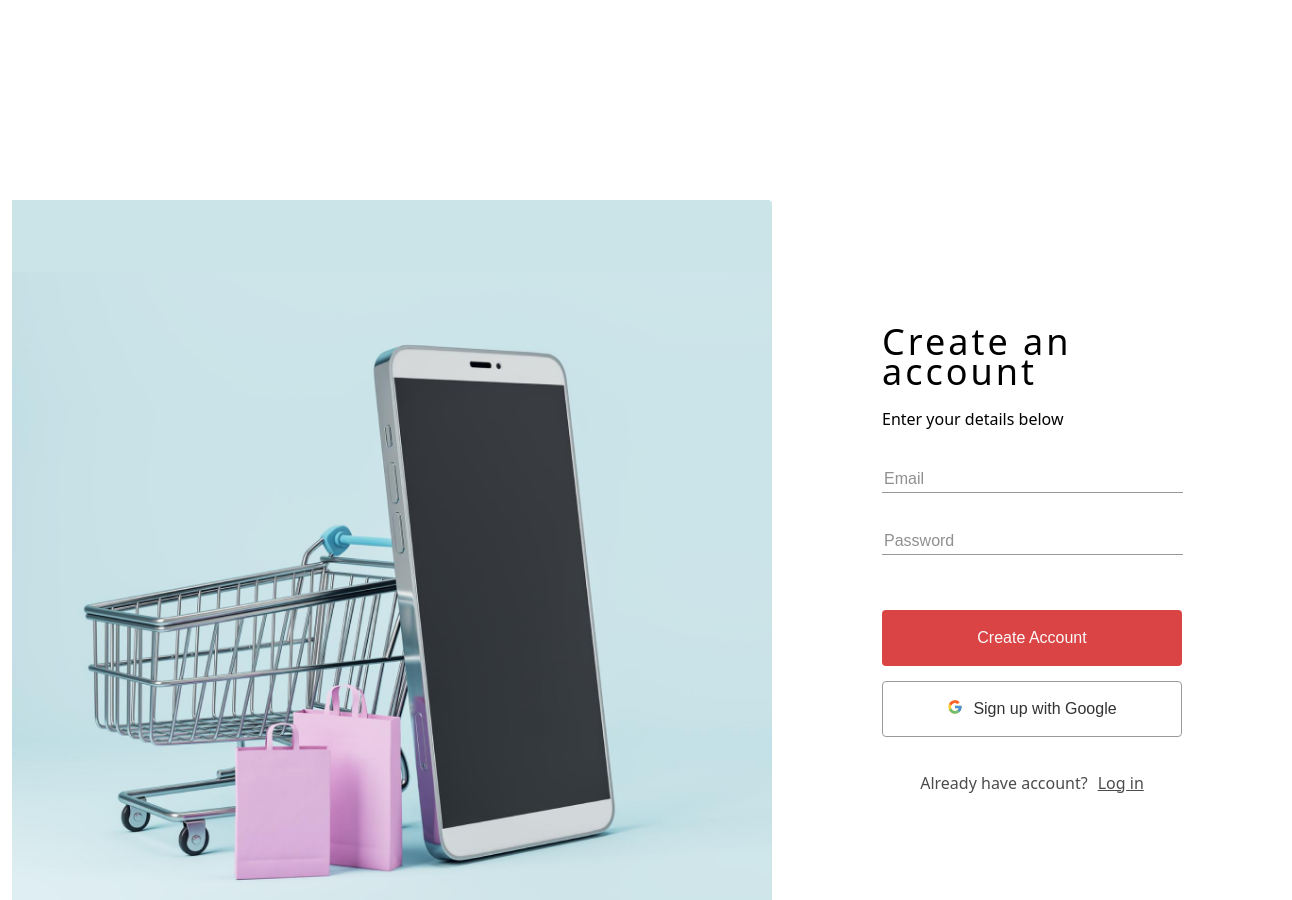
Test: Register Component › shows warning if email is missing
This screenshot has width=1292, height=900.
Click the button "Create Account" at (1032, 638), box [882, 610, 1182, 666]
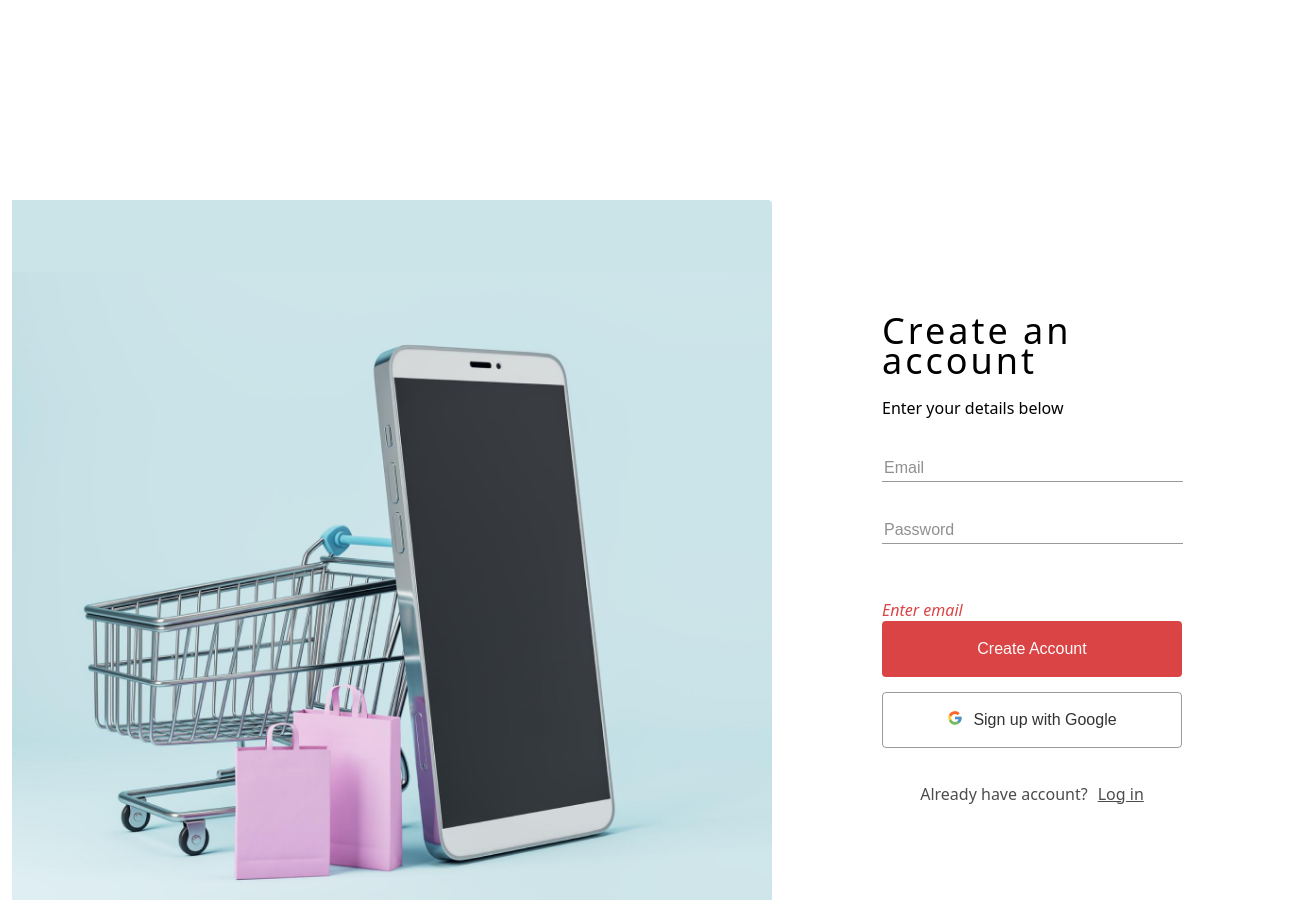
Expected: the text "Enter email" is shown, [882, 598, 963, 620]
